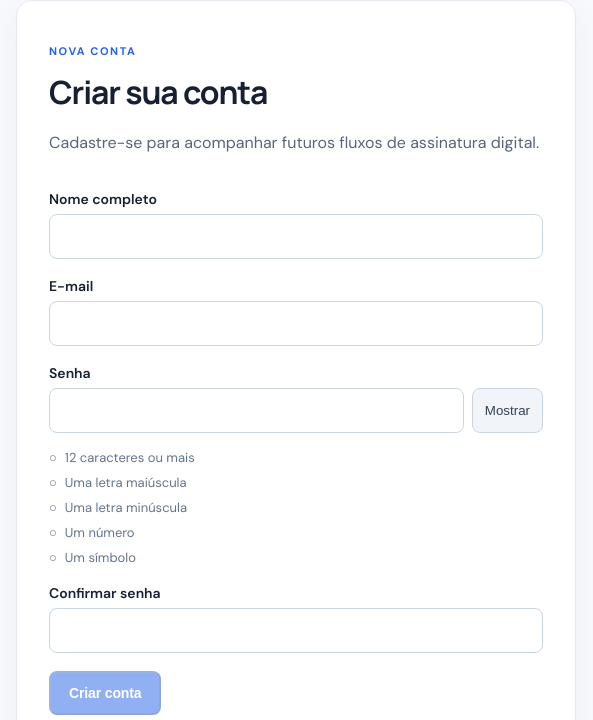
Test: shows success after the backend accepts registration
Type "Demo User" into the field labelled "Nome completo". click: [296, 236]
box: [49,214,543,259]
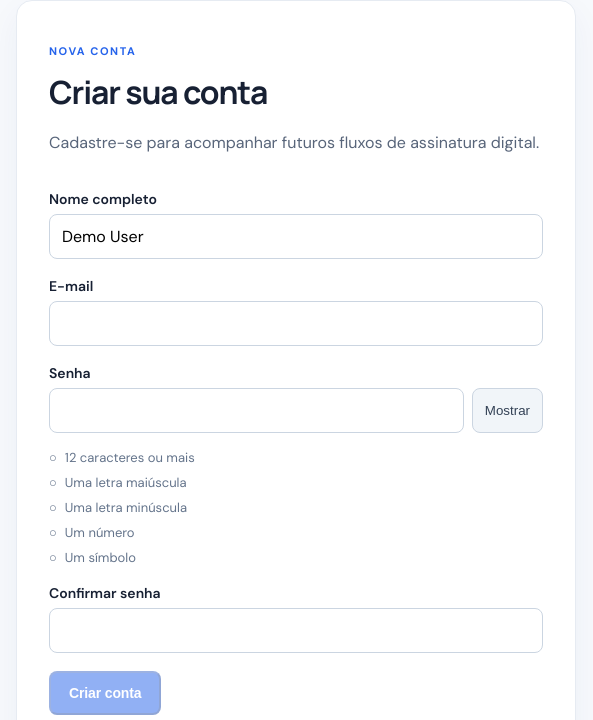
Type "demo@example.com" into the field labelled "E-mail". click: [296, 324]
box: [49,301,543,346]
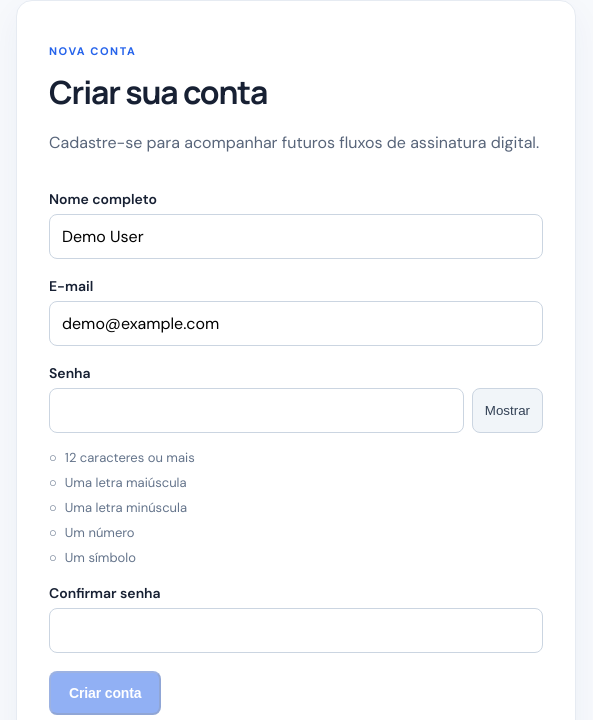
Type "Strong-password9" into the password field labelled "Senha". click: [256, 410]
box: [49,388,464,433]
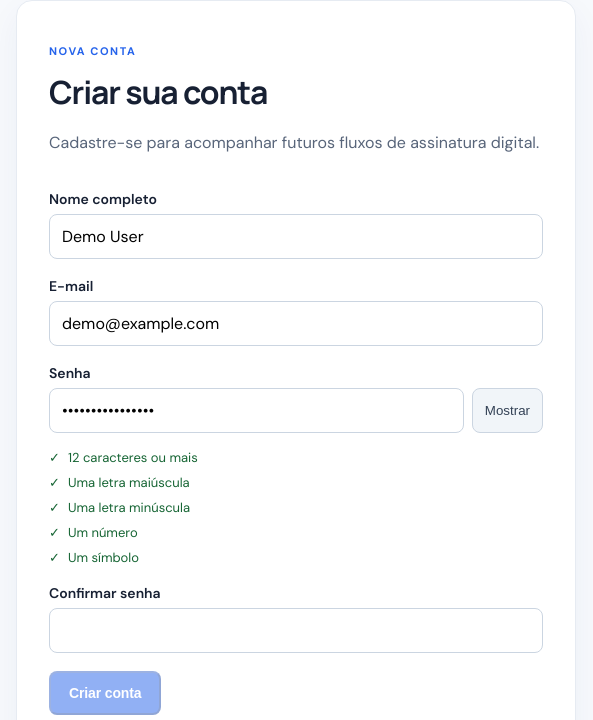
Type "Strong-password9" into the password field labelled "Confirmar senha". click: [296, 630]
box: [49,608,543,653]
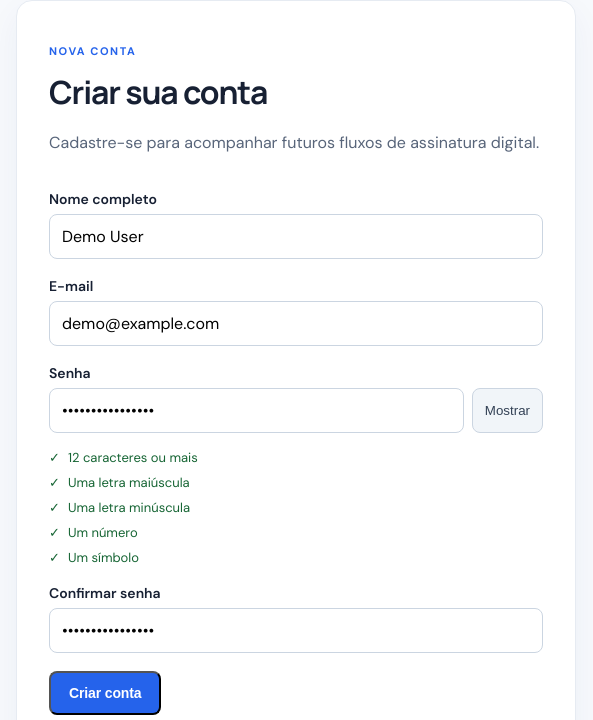
Click the button "Criar conta". click: [105, 693]
box: [49,671,161,715]
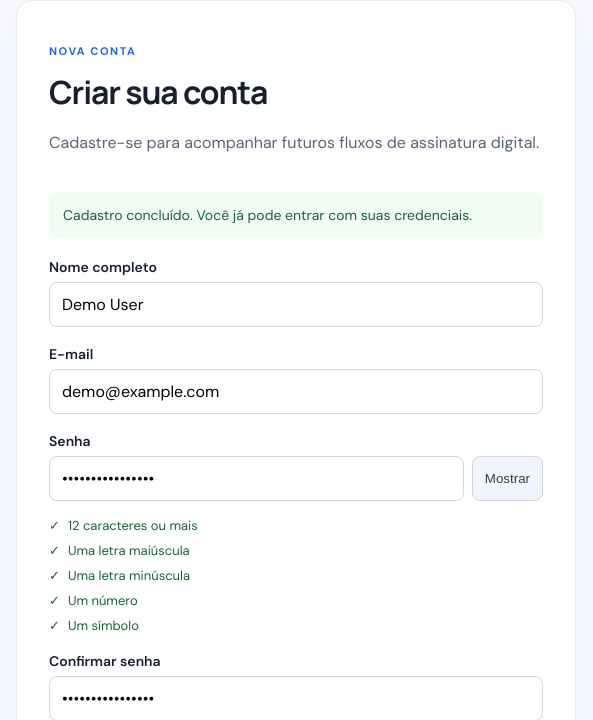
expect the text "Cadastro concluído. Você já pode entrar com suas credenciais." is shown: met, box [49,192,543,238]
